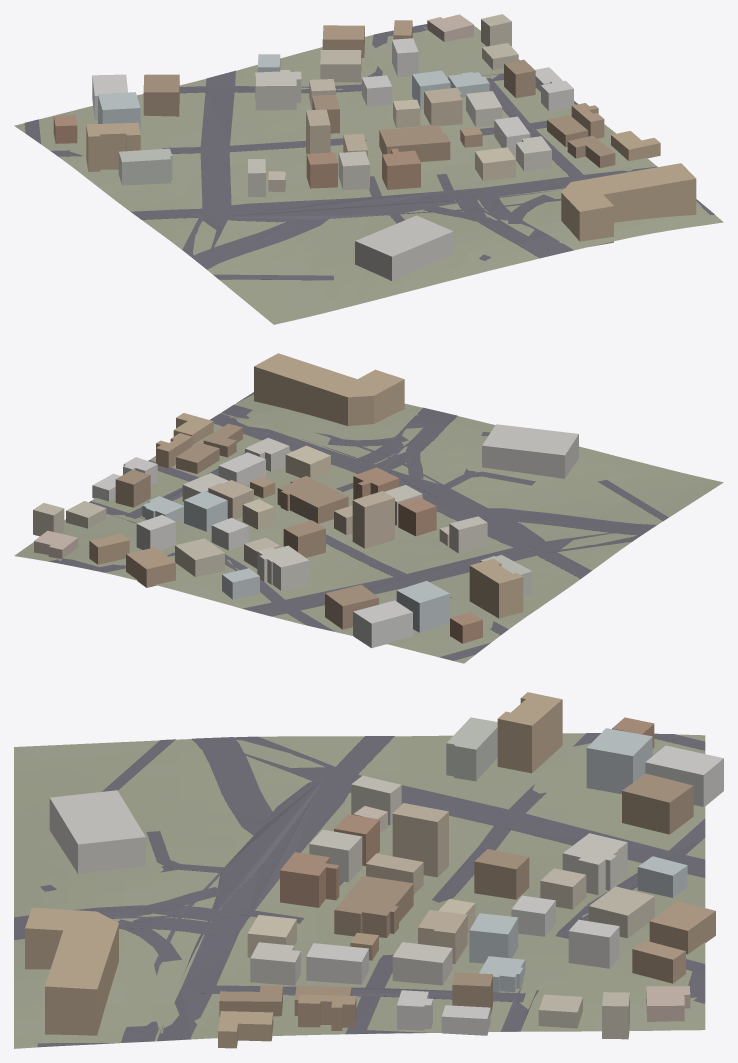
Rendered from chunk_5_2.glb.
3 views of the same model, one above another, from view 1: azimuth 30°, elevation 25°; view 2: azimuth 150°, elevation 25°; view 3: azimuth 270°, elevation 25° (orthographic). The views are drawn at different scales.
Visible parts, largest first — view 1: geometry_44, geometry_1, geometry_0, geometry_63, geometry_64, geometry_47, geometry_3, geometry_55, geometry_40, geometry_27, geometry_5, geometry_34 (+39 smaller); view 2: geometry_44, geometry_1, geometry_0, geometry_63, geometry_64, geometry_3, geometry_40, geometry_2, geometry_18, geometry_32, geometry_5, geometry_55 (+43 smaller); view 3: geometry_44, geometry_1, geometry_0, geometry_63, geometry_64, geometry_3, geometry_47, geometry_40, geometry_57, geometry_55, geometry_34, geometry_32 (+47 smaller).
Part boxes in pixels (x1=…): geometry_44: x1=14, y1=26, x2=723, y2=324; geometry_1: x1=561, y1=163, x2=696, y2=246; geometry_0: x1=355, y1=215, x2=453, y2=280; geometry_63: x1=200, y1=70, x2=235, y2=210; geometry_64: x1=219, y1=189, x2=562, y2=222; geometry_47: x1=218, y1=190, x2=465, y2=214; geometry_3: x1=86, y1=122, x2=140, y2=171; geometry_55: x1=192, y1=219, x2=328, y2=269; geometry_40: x1=379, y1=124, x2=450, y2=161; geometry_27: x1=118, y1=148, x2=172, y2=185; geometry_5: x1=255, y1=70, x2=301, y2=110; geometry_34: x1=143, y1=74, x2=179, y2=116; geometry_44: x1=14, y1=394, x2=723, y2=663; geometry_1: x1=254, y1=353, x2=404, y2=426; geometry_0: x1=482, y1=424, x2=578, y2=478; geometry_63: x1=242, y1=546, x2=536, y2=616; geometry_64: x1=221, y1=405, x2=544, y2=546; geometry_3: x1=469, y1=558, x2=523, y2=618; geometry_40: x1=277, y1=476, x2=348, y2=523; geometry_2: x1=353, y1=600, x2=412, y2=648; geometry_18: x1=352, y1=491, x2=394, y2=548; geometry_32: x1=396, y1=580, x2=449, y2=632; geometry_5: x1=257, y1=545, x2=309, y2=590; geometry_55: x1=489, y1=508, x2=656, y2=535; geometry_44: x1=14, y1=733, x2=705, y2=1048; geometry_1: x1=25, y1=907, x2=118, y2=1035; geometry_0: x1=49, y1=790, x2=145, y2=874; geometry_63: x1=341, y1=774, x2=705, y2=877; geometry_64: x1=121, y1=778, x2=342, y2=1042; geometry_3: x1=497, y1=692, x2=562, y2=773; geometry_47: x1=216, y1=783, x2=350, y2=919; geometry_40: x1=334, y1=876, x2=413, y2=937; geometry_57: x1=157, y1=915, x2=246, y2=1041; geometry_55: x1=192, y1=737, x2=272, y2=835; geometry_34: x1=622, y1=773, x2=693, y2=834; geometry_32: x1=586, y1=728, x2=652, y2=794.
Bounding box in the file's own units: 258 × 28.87 × 257.
